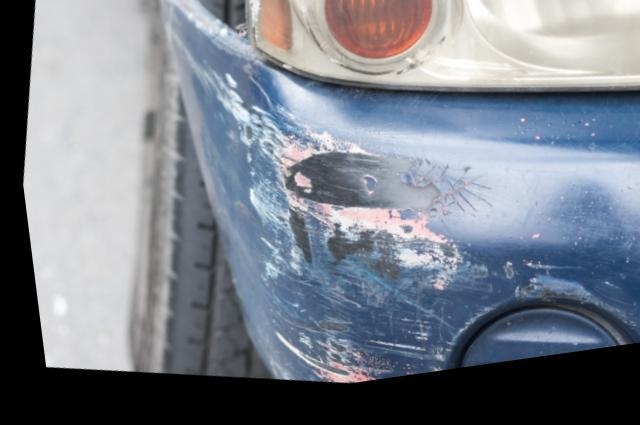scratch: (168, 29, 577, 392), (244, 0, 267, 43)
